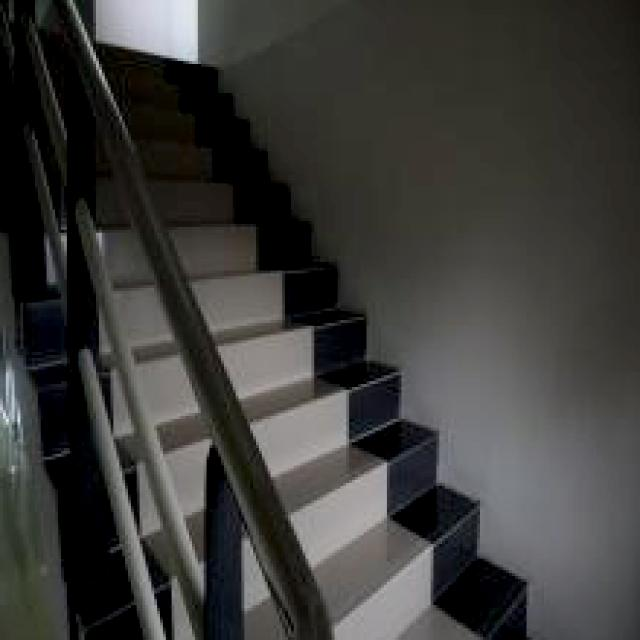upstair: (272, 257, 438, 571)
